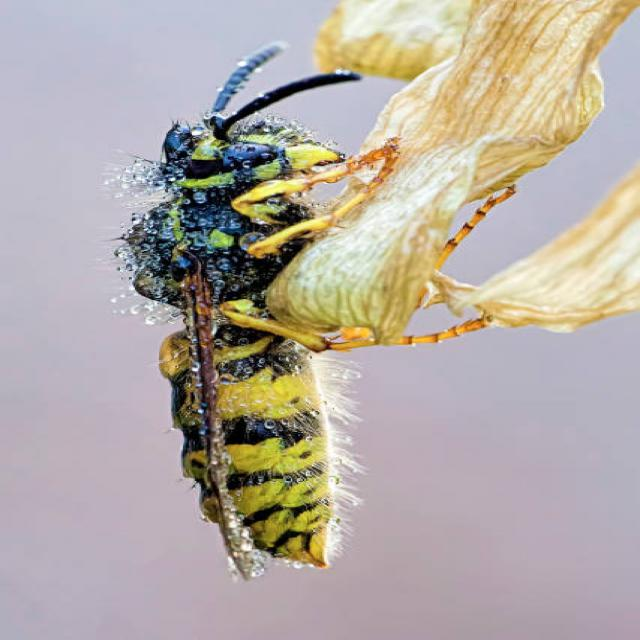Vespa Crabro: (102, 33, 450, 554)
